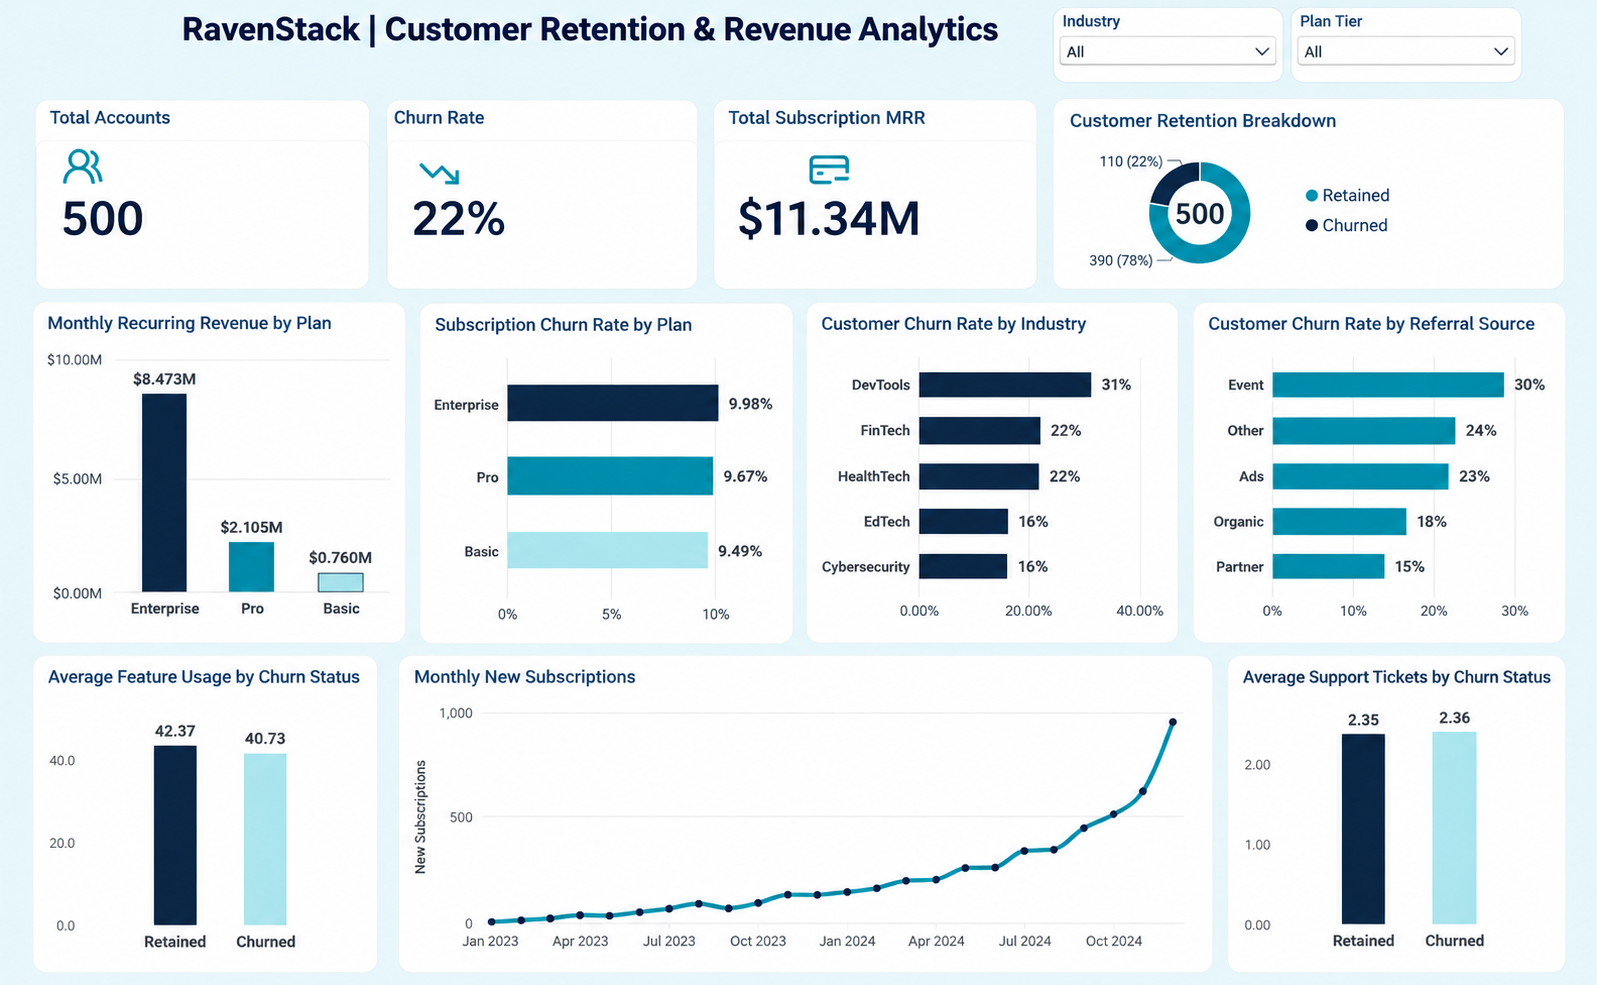

What the dashboard file says about the page in this screenshot:
{"tool":"powerbi","page":{"name":"Page 1","canvas":[1750,1080],"ordinal":0},"visuals":[{"type":"textbox","box":[196,0,947.5,45.5],"z":0},{"type":"cardVisual","title":"Total Accounts","fields":{"Data":["Count(ravenstack_project ravenstack_accounts.account_id)"]},"box":[129.1,96.3,310,190],"z":0,"group":"g1"},{"type":"cardVisual","title":"Churn Rate","fields":{"Data":["ravenstack_project ravenstack_churn_events.Churn Rate"]},"box":[455.8,96.3,310.1,190],"z":1000,"group":"g2"},{"type":"clusteredBarChart","title":"Subscription Churn Rate by Plan ","fields":{"Category":["ravenstack_project ravenstack_subscriptions.plan_tier"],"Y":["ravenstack_project ravenstack_churn_events.Subscription Churn Rate"]},"box":[441.4,294.3,410,370.2],"z":1000},{"type":"clusteredColumnChart","title":"Monthly Recurring Revenue by Plan","fields":{"Category":["ravenstack_project ravenstack_subscriptions.plan_tier"],"Y":["Sum(ravenstack_project ravenstack_subscriptions.mrr_amount)"]},"box":[12.9,290,410.6,370],"z":2000},{"type":"cardVisual","title":"Total Subscription MRR","fields":{"Data":["Sum(ravenstack_project ravenstack_subscriptions.mrr_amount)"]},"box":[782.6,99.8,308.9,191],"z":3000,"group":"g3"},{"type":"clusteredBarChart","title":"Customer Churn Rate by Industry","fields":{"Category":["ravenstack_project ravenstack_accounts.industry"],"Y":["ravenstack_project ravenstack_churn_events.Churn Rate"]},"box":[869.3,294.3,410,370.2],"z":3000},{"type":"image","box":[484.2,150.6,40,40],"z":3010,"group":"g2"},{"type":"image","box":[152.4,138.9,40,40],"z":3012,"group":"g1"},{"type":"image","box":[865.3,146.9,39.9,40.2],"z":3013,"group":"g3"},{"type":"clusteredColumnChart","title":"Average Support Tickets by Churn Status","fields":{"Category":["ravenstack_project ravenstack_accounts.Churn Status"],"Y":["ravenstack_project ravenstack_support_tickets.Average Support Tickets"]},"box":[1347.1,677.1,360,403],"z":4000},{"type":"clusteredColumnChart","title":"Average Feature Usage by Churn Status","fields":{"Category":["ravenstack_project ravenstack_subscriptions.Churn Label"],"Y":["ravenstack_project ravenstack_feature_usage.Average Feature Usage"]},"box":[15.7,677.1,360,403],"z":5000},{"type":"clusteredBarChart","title":"Customer Churn Rate by Referral Source","fields":{"Category":["ravenstack_project ravenstack_accounts.referral_source"],"Y":["ravenstack_project ravenstack_churn_events.Churn Rate"]},"box":[1297.1,294.3,410,370.2],"z":6000},{"type":"slicer","fields":{"Values":["ravenstack_project ravenstack_accounts.industry"]},"box":[1143.6,0,230,75],"z":7000},{"type":"slicer","fields":{"Values":["ravenstack_project ravenstack_accounts.plan_tier"]},"box":[1373.8,0,230,75],"z":8000},{"type":"donutChart","title":"Customer Retention Breakdown","fields":{"Category":["ravenstack_project ravenstack_accounts.Churn Status"],"Y":["CountNonNull(ravenstack_project ravenstack_accounts.account_id)"]},"box":[1109.3,99.8,350,190],"z":9000},{"type":"group","id":"g1","title":"Group 2","box":[129.1,96,979.9,190.3],"z":10000},{"type":"group","id":"g2","title":"Group 1","box":[455.8,96.3,310.1,190],"z":11000},{"type":"group","id":"g3","title":"Group 3","box":[782.6,99.8,310,190],"z":12000},{"type":"textbox","box":[439,96,670,190],"z":12001,"group":"g1"},{"type":"textbox","box":[100,100,300,300],"z":15000},{"type":"lineChart","title":"Monthly New Subscriptions","fields":{"Category":["ravenstack_project ravenstack_subscriptions.Start Month"],"Y":["Count(ravenstack_project ravenstack_subscriptions.subscription_id)"]},"box":[407.1,677.1,908.6,403],"z":15001}]}

Visuals, with their boxes in screenshot pixels (x1, y1, x2, y2), scaled from the page's 1750x1080 canvas onto the 1597x985 screenshot:
textbox: l=179, t=0, r=1044, b=41
"Total Accounts" cardVisual: l=118, t=88, r=401, b=261
"Churn Rate" cardVisual: l=416, t=88, r=699, b=261
"Subscription Churn Rate by Plan " clusteredBarChart: l=403, t=268, r=777, b=606
"Monthly Recurring Revenue by Plan" clusteredColumnChart: l=12, t=264, r=386, b=602
"Total Subscription MRR" cardVisual: l=714, t=91, r=996, b=265
"Customer Churn Rate by Industry" clusteredBarChart: l=793, t=268, r=1167, b=606
image: l=442, t=137, r=478, b=174
image: l=139, t=127, r=176, b=163
image: l=790, t=134, r=826, b=171
"Average Support Tickets by Churn Status" clusteredColumnChart: l=1229, t=618, r=1558, b=984
"Average Feature Usage by Churn Status" clusteredColumnChart: l=14, t=618, r=343, b=984
"Customer Churn Rate by Referral Source" clusteredBarChart: l=1184, t=268, r=1558, b=606
slicer - ravenstack_project ravenstack_accounts.industry: l=1044, t=0, r=1254, b=68
slicer - ravenstack_project ravenstack_accounts.plan_tier: l=1254, t=0, r=1464, b=68
"Customer Retention Breakdown" donutChart: l=1012, t=91, r=1332, b=264
"Group 2" group: l=118, t=88, r=1012, b=261
"Group 1" group: l=416, t=88, r=699, b=261
"Group 3" group: l=714, t=91, r=997, b=264
textbox: l=401, t=88, r=1012, b=261
textbox: l=91, t=91, r=365, b=365
"Monthly New Subscriptions" lineChart: l=372, t=618, r=1201, b=984
